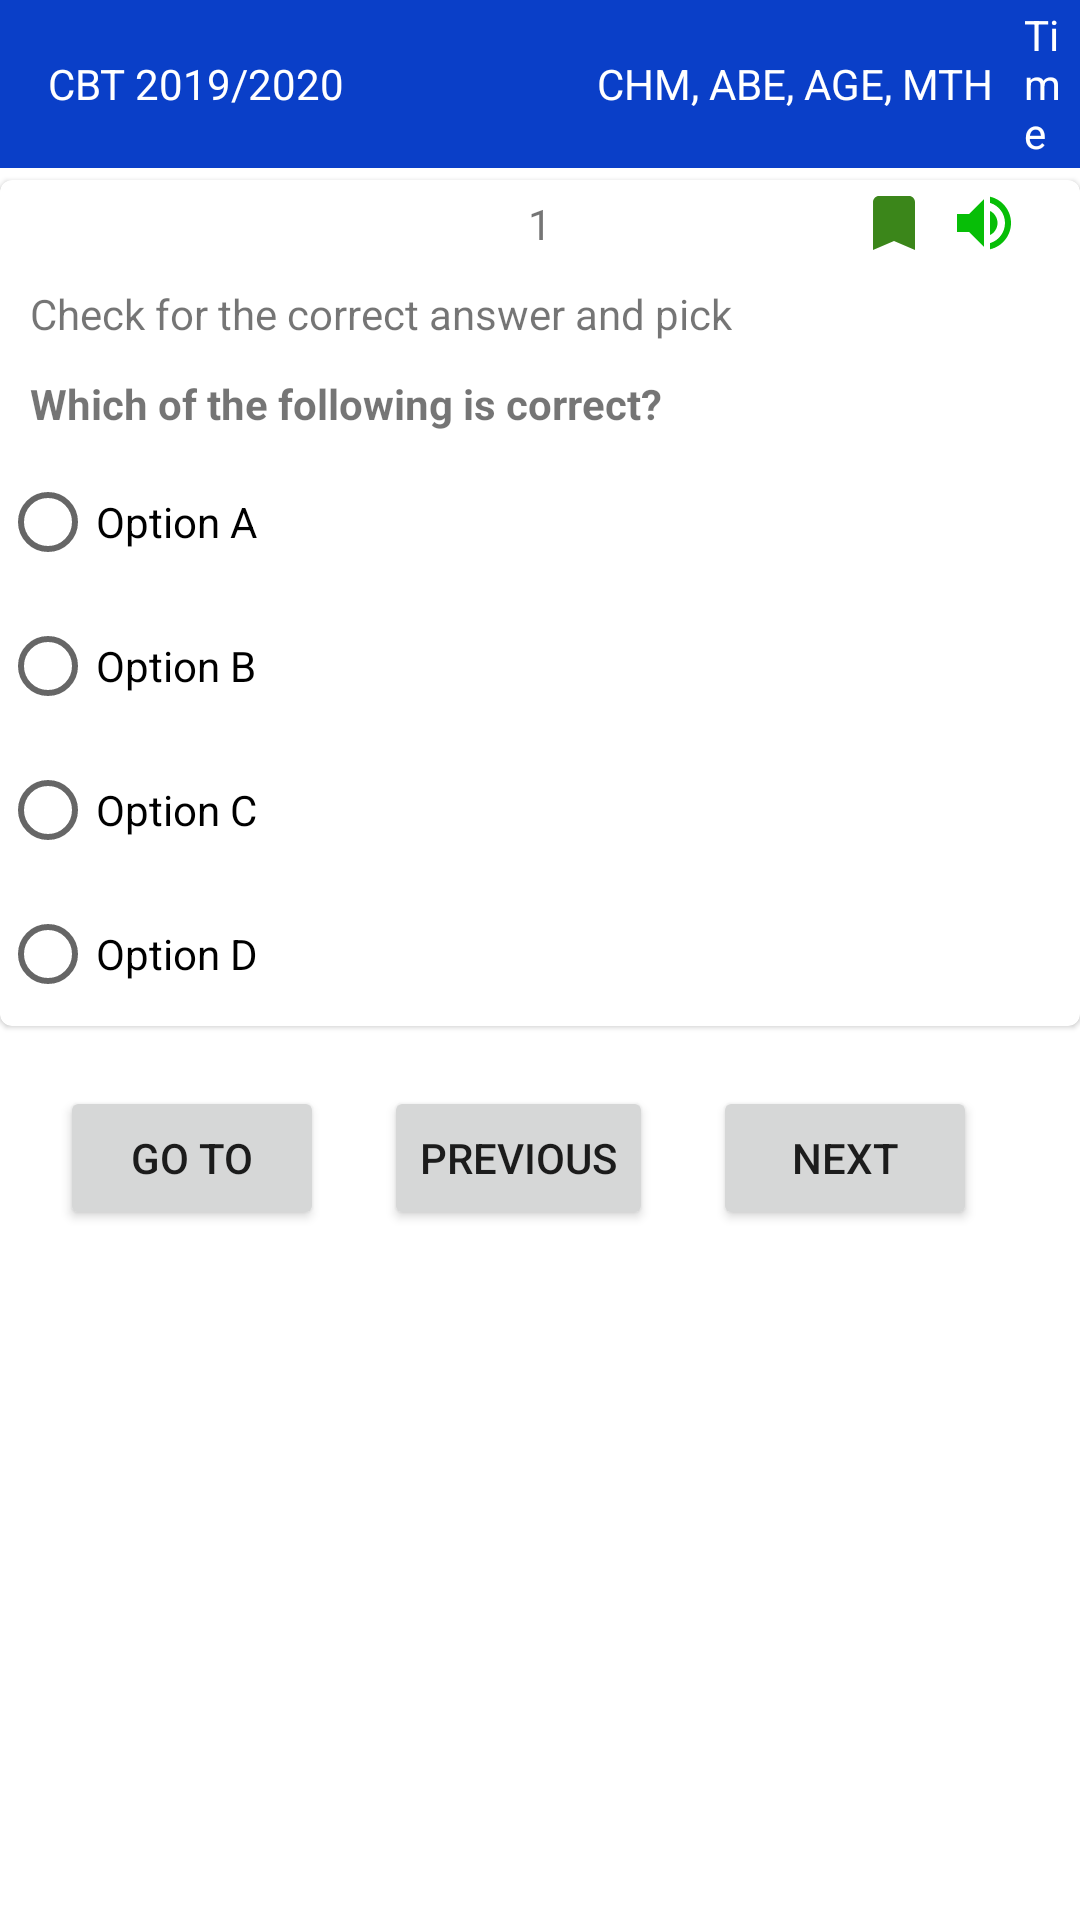

Locate icon controls on the screen. Image size 1080*1920, boxes as (x1, y1, x2, y2).
bookmark: (873, 196, 915, 250)
volume up: (957, 196, 1011, 250)
